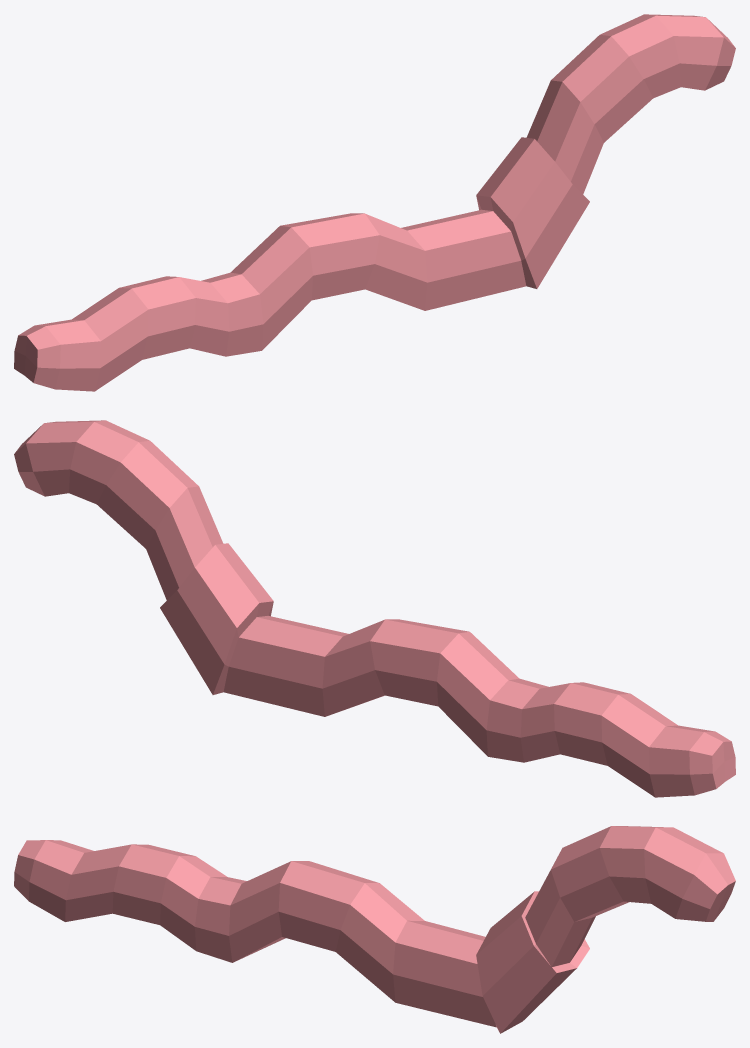
File: CHAHIN_EARTH_WORM.obj
The picture shows the model from 3 angles, top to bottom: view 1: azimuth 30°, elevation 25°; view 2: azimuth 150°, elevation 25°; view 3: azimuth 330°, elevation 25°; orthographic projection.
Visible parts, largest first — view 1: Cube.010_Cube.013; view 2: Cube.010_Cube.013; view 3: Cube.010_Cube.013.
Boxes of the visible parts, x1,y1,x2,y2 form: Cube.010_Cube.013: (14,14,735,391); Cube.010_Cube.013: (14,420,735,797); Cube.010_Cube.013: (14,826,735,1033).
Bounding box in the file's own units: 1.85 × 0.5687 × 0.1949.
1 material, 1 textured.
